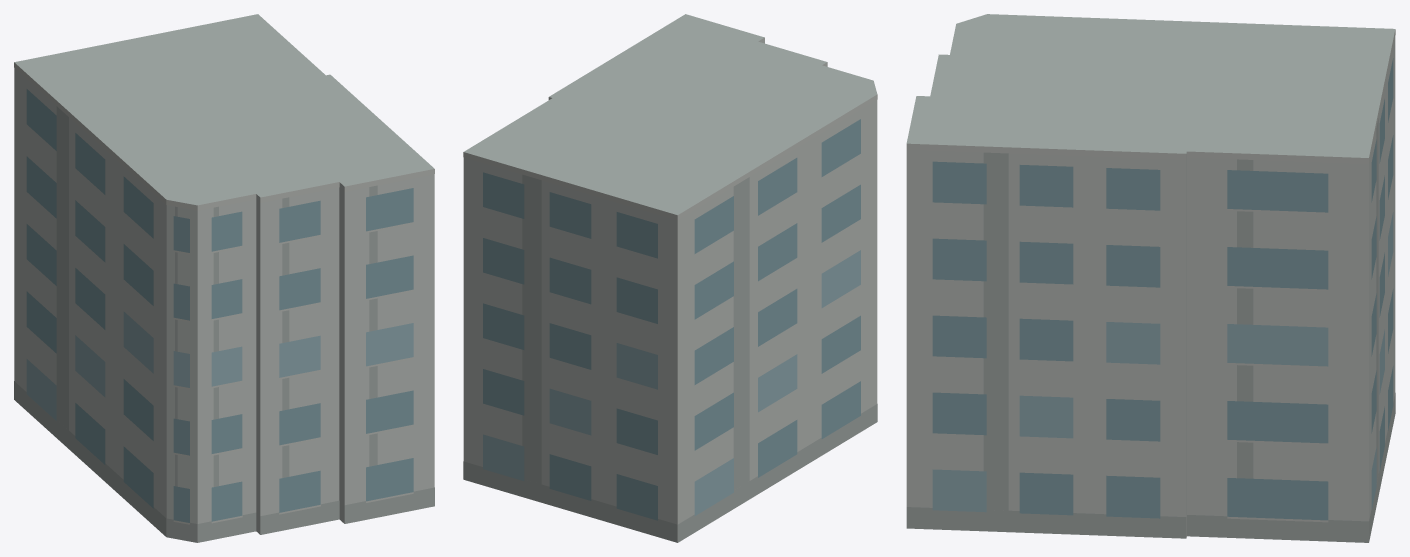
File: survey-upis-33005476.glb
The picture shows the model from 3 angles, left to right: view 1: azimuth 30°, elevation 25°; view 2: azimuth 150°, elevation 25°; view 3: azimuth 270°, elevation 25°; orthographic projection. The views are drawn at different scales.
Visible parts, largest first — view 1: survey-upis-33005476.tmp; view 2: survey-upis-33005476.tmp; view 3: survey-upis-33005476.tmp.
Part boxes in pixels (x1,y1,x2,y2): survey-upis-33005476.tmp: [14, 14, 434, 542]; survey-upis-33005476.tmp: [463, 14, 877, 542]; survey-upis-33005476.tmp: [906, 14, 1395, 542].
Size of the model in its own units: 12.34 by 15.35 by 17.69.
